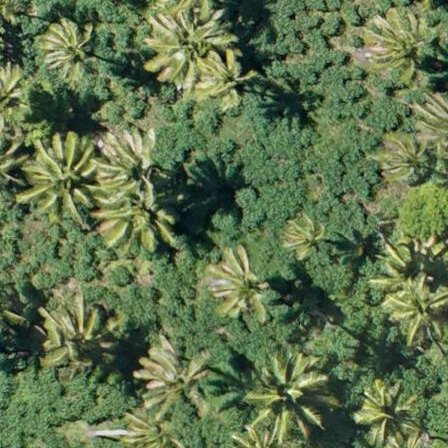palm_tree: (243, 345, 331, 439), (200, 243, 283, 324), (25, 135, 91, 213), (137, 341, 208, 411), (43, 303, 114, 371), (97, 133, 163, 205), (145, 9, 218, 73), (352, 378, 416, 446), (369, 15, 429, 76), (389, 281, 448, 341), (38, 20, 94, 79), (197, 52, 253, 107), (275, 213, 332, 263), (224, 413, 303, 448)
